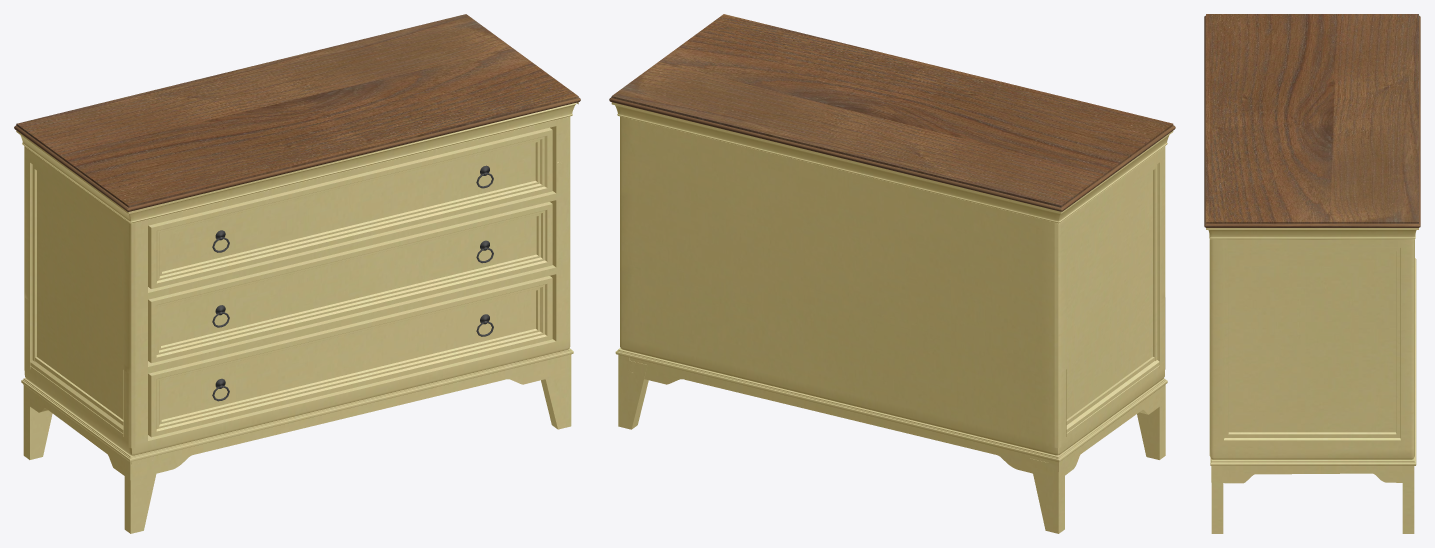
3 views of the same model, side by side, from view 1: azimuth 30°, elevation 25°; view 2: azimuth 150°, elevation 25°; view 3: azimuth 270°, elevation 25° (orthographic). The views are drawn at different scales.
Parts seen in each view (by area): view 1: основа, столешница, ID20 1, низ1, низ, ID258, ID240, ID231; view 2: основа, столешница, ID20 1, низ1, низ, ID231, ID249, ID258; view 3: столешница, основа, ID20 1, низ1, низ, ID240, ID249.
Boxes of the visible parts, x1,y1,x2,y2 form: основа: [24, 116, 570, 455]; столешница: [14, 14, 580, 211]; ID20 1: [16, 102, 578, 223]; низ1: [23, 354, 571, 479]; низ: [21, 348, 573, 461]; ID258: [124, 458, 159, 533]; ID240: [541, 373, 571, 429]; ID231: [23, 402, 52, 459]; основа: [620, 116, 1165, 455]; столешница: [609, 14, 1175, 211]; ID20 1: [611, 102, 1173, 223]; низ1: [618, 355, 1165, 479]; низ: [615, 348, 1167, 461]; ID231: [1029, 458, 1064, 533]; ID249: [618, 358, 648, 429]; ID258: [1137, 402, 1165, 459]; столешница: [1204, 14, 1420, 227]; основа: [1209, 239, 1414, 459]; ID20 1: [1206, 228, 1418, 239]; низ1: [1211, 466, 1414, 483]; низ: [1210, 258, 1416, 465]; ID240: [1211, 469, 1223, 533]; ID249: [1402, 469, 1414, 533].
Bounding box in the file's own units: 0.4125 × 0.2876 × 0.1796.
Materials: 3 (2 with a texture image).
